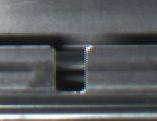oneu: (45, 41, 94, 98)
